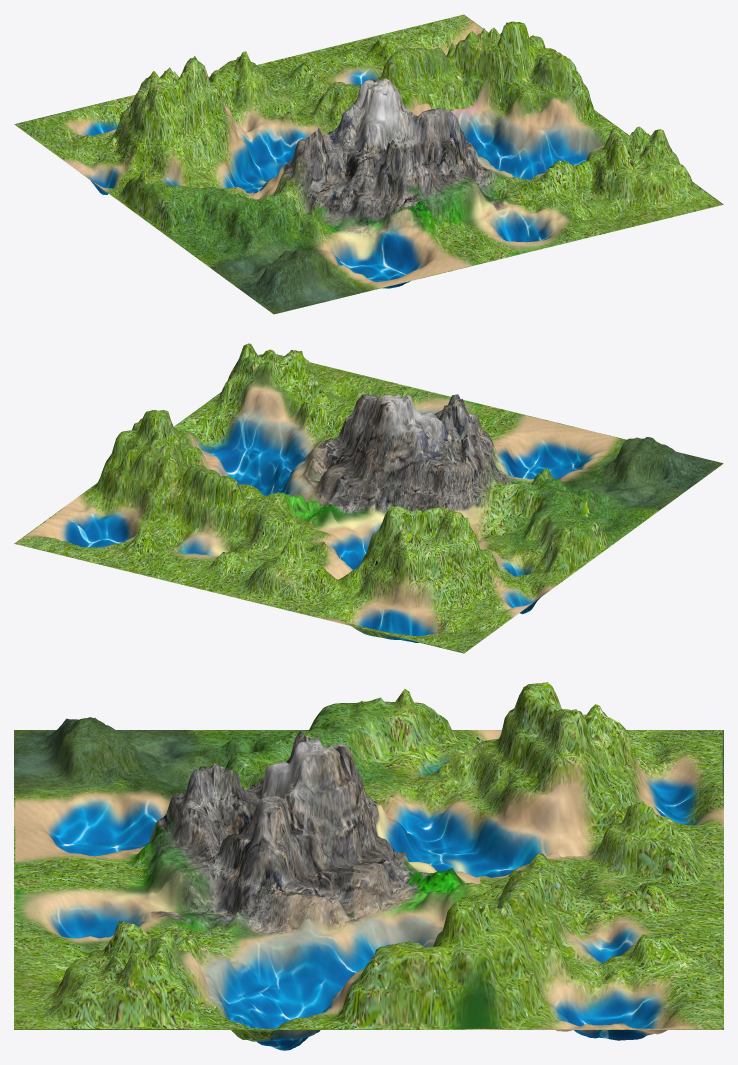
The model's file is terrain1.obj.
3 views of the same model, one above another, from view 1: azimuth 30°, elevation 25°; view 2: azimuth 150°, elevation 25°; view 3: azimuth 270°, elevation 25° (orthographic). The views are drawn at different scales.
Visible parts, largest first — view 1: Landscape.001; view 2: Landscape.001; view 3: Landscape.001.
Boxes of the visible parts, <box> form: Landscape.001: <box>14,14,723,314</box>; Landscape.001: <box>14,343,723,653</box>; Landscape.001: <box>14,682,723,1050</box>.
Size of the model in its own units: 24 by 7.27 by 24.
